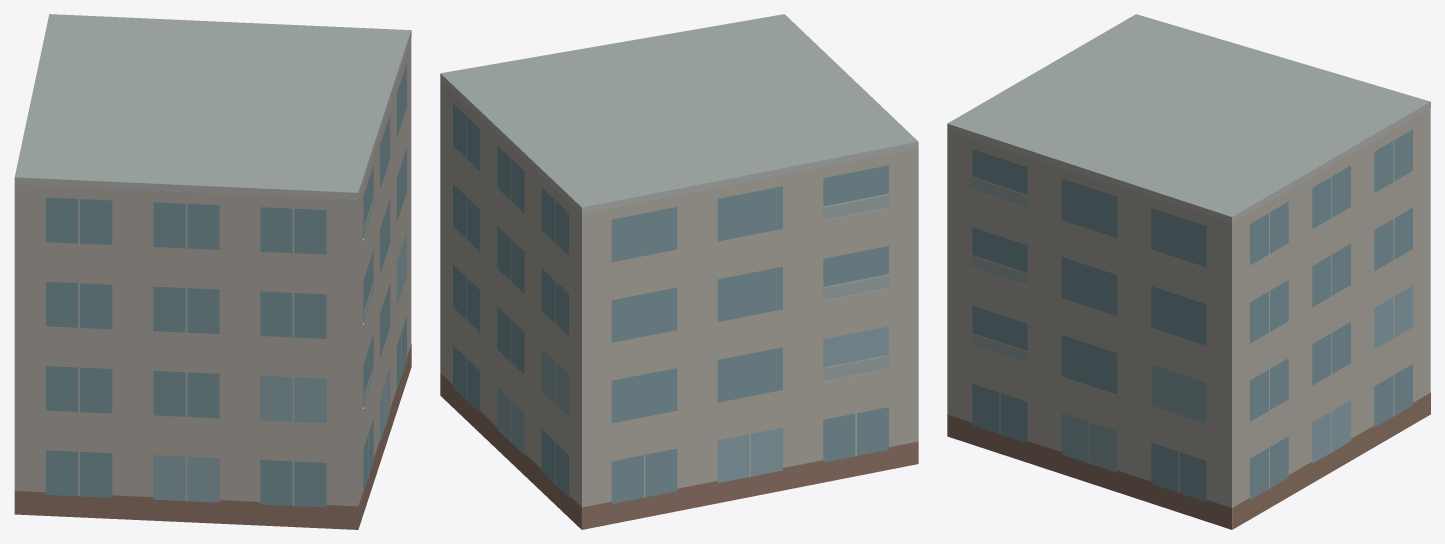
Rendered from survey-upis-32638139.glb.
3 views of the same model, side by side, from view 1: azimuth 30°, elevation 25°; view 2: azimuth 150°, elevation 25°; view 3: azimuth 270°, elevation 25° (orthographic). The views are drawn at different scales.
Visible parts, largest first — view 1: survey-upis-32638139.tmp; view 2: survey-upis-32638139.tmp; view 3: survey-upis-32638139.tmp.
Part boxes in pixels (bbox=[...]): survey-upis-32638139.tmp: bbox=[14, 14, 411, 529]; survey-upis-32638139.tmp: bbox=[440, 14, 918, 529]; survey-upis-32638139.tmp: bbox=[947, 14, 1430, 529].
Size of the model in its own units: 16.3 by 11.7 by 16.4.
